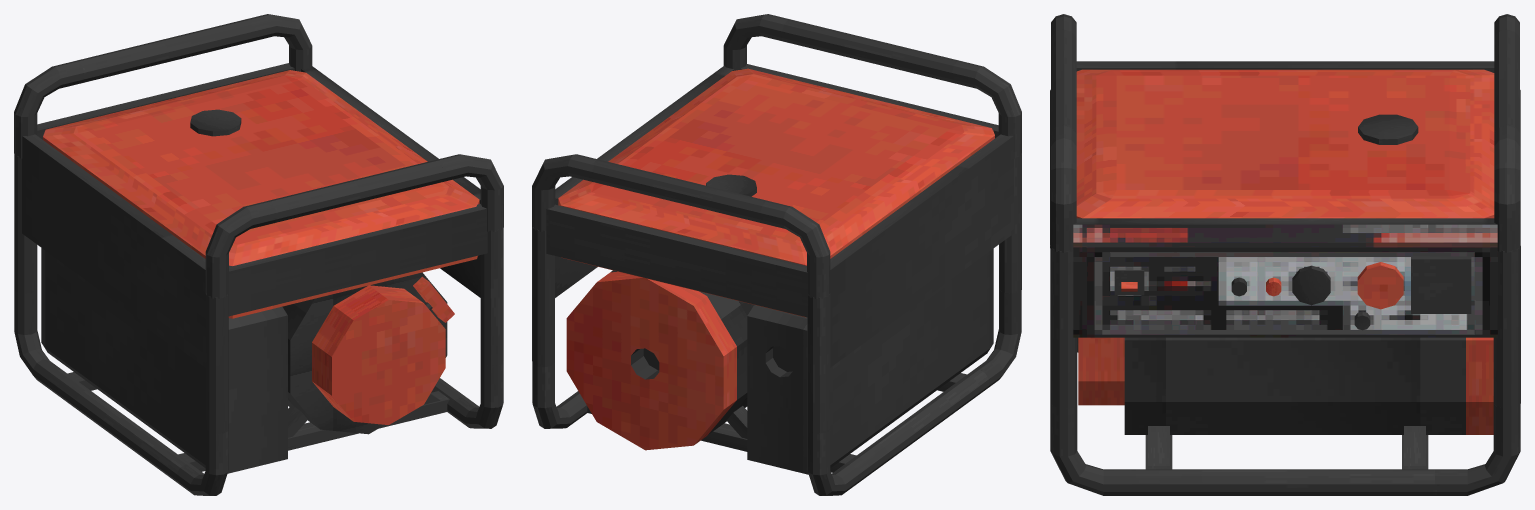
Rendered from ГЕНКРАТОР.fbx.
3 renders of one model, left to right at view 1: azimuth 30°, elevation 25°; view 2: azimuth 150°, elevation 25°; view 3: azimuth 270°, elevation 25°, orthographic. The views are drawn at different scales.
Parts seen in each view (by area): view 1: Cube.004, Cylinder, Cube.005, Cube.003, Cylinder.003, Cube.002, Cube, Cube.001, Cube.007, Cylinder.001, Cube.010; view 2: Cube.004, Cylinder, Cube.005, Cylinder.003, Cube.003, Cube.001, Cube, Cube.002, Cube.006, Cylinder.001; view 3: Cube.004, Cube, Cylinder.003, Cylinder, Cube.003, Cube.018, Cylinder.006, Cylinder.001, Cylinder.007, Cube.011, Cube.012, Cube.017.
Part boxes in pixels (box(x1,y1,x2,y2)): Cube.004: box(43, 70, 479, 318); Cylinder: box(14, 14, 503, 495); Cube.005: box(41, 248, 287, 473); Cube.003: box(22, 134, 205, 367); Cylinder.003: box(282, 272, 447, 434); Cube.002: box(228, 204, 487, 316); Cube: box(301, 65, 480, 297); Cube.001: box(37, 63, 294, 139); Cube.007: box(178, 391, 449, 471); Cylinder.001: box(190, 109, 241, 136); Cube.010: box(413, 276, 454, 322); Cube.004: box(558, 68, 994, 317); Cylinder: box(532, 14, 1021, 495); Cube.005: box(747, 248, 993, 474); Cylinder.003: box(566, 270, 754, 450); Cube.003: box(830, 134, 1013, 367); Cube.001: box(546, 204, 807, 317); Cube: box(555, 65, 734, 297); Cube.002: box(740, 64, 998, 138); Cube.006: box(586, 406, 856, 472); Cylinder.001: box(706, 174, 756, 196); Cube.004: box(1076, 69, 1494, 218); Cube: box(1073, 218, 1497, 337); Cylinder.003: box(1078, 337, 1493, 434); Cylinder: box(1050, 14, 1520, 495); Cube.003: box(1076, 61, 1494, 72); Cube.018: box(1411, 256, 1471, 313); Cylinder.006: box(1357, 262, 1403, 309); Cylinder.001: box(1358, 114, 1418, 144); Cylinder.007: box(1292, 265, 1330, 305); Cube.011: box(1148, 426, 1169, 465); Cube.012: box(1404, 426, 1425, 465); Cube.017: box(1114, 270, 1144, 295).
Bounding box in the file's own units: 1326 × 1243 × 1560.
